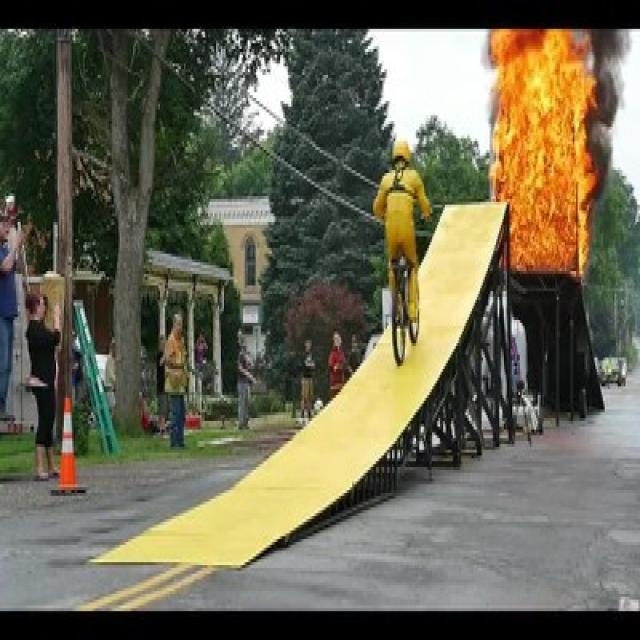fire: (489, 28, 597, 278)
